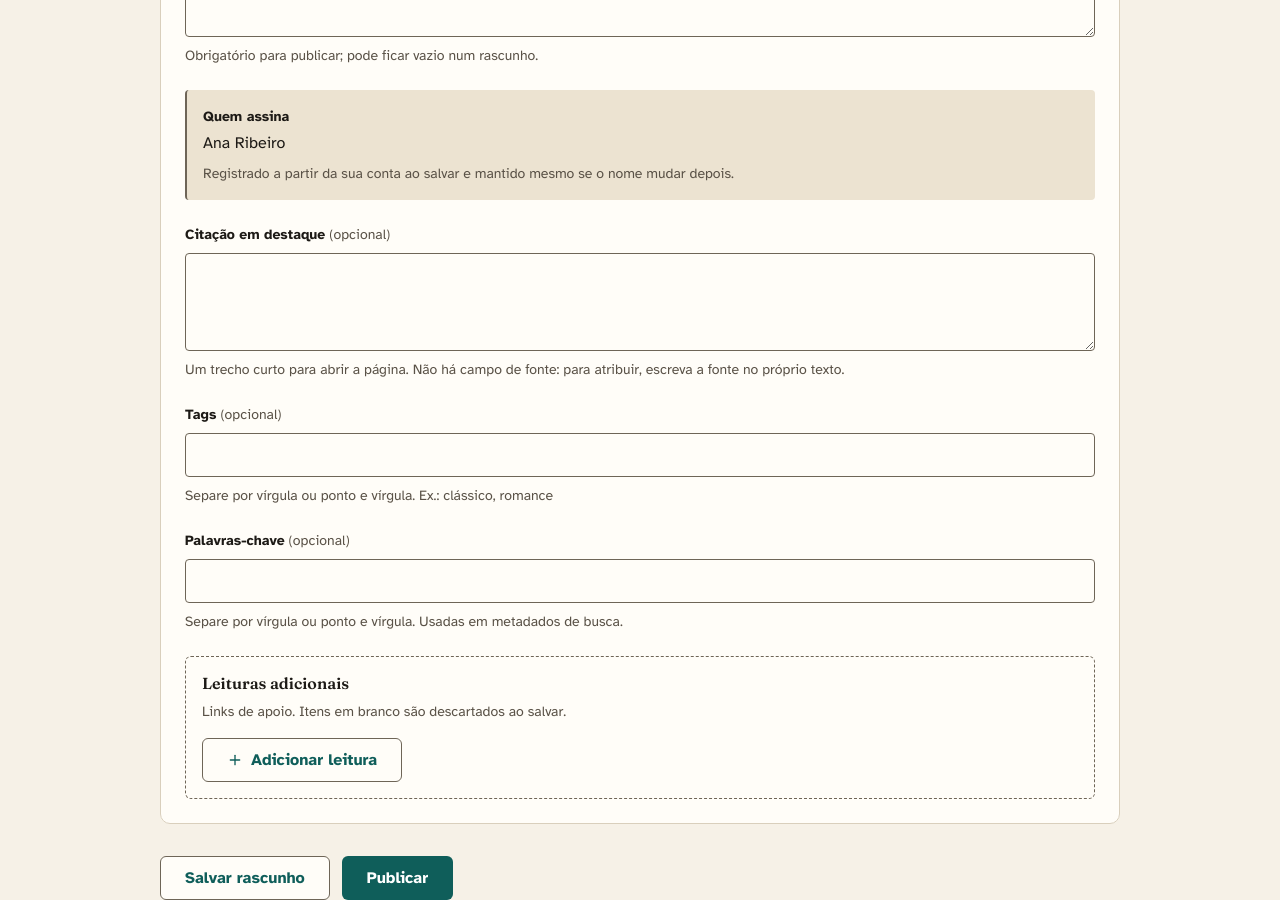
Test case: leituras adicionais: adicionar, remover e o foco em cada transição › adicionar cria o par de campos e leva o foco ao primeiro deles
(page scrolled)
Click the button "Adicionar leitura": (302, 760) [202, 738, 402, 782]
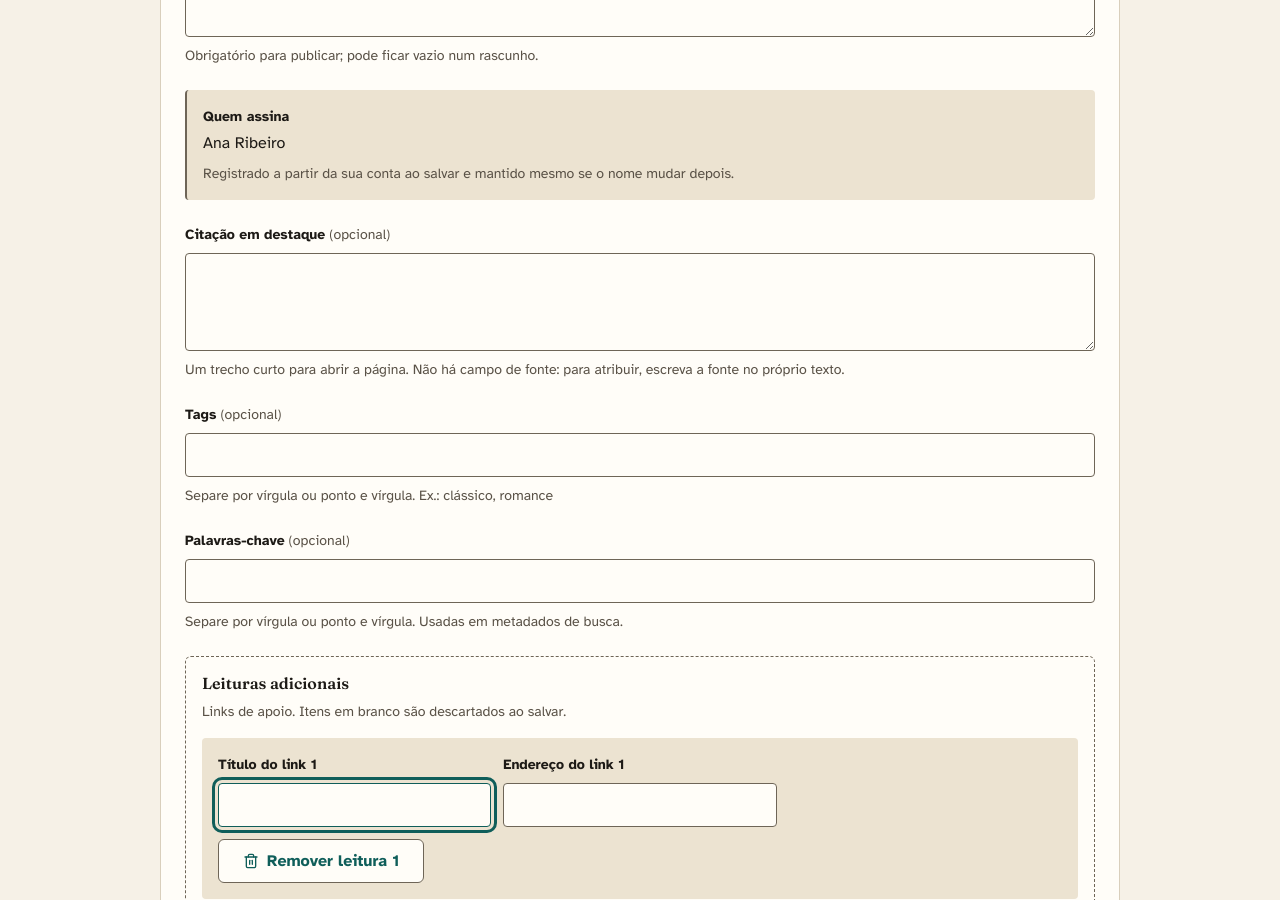
expect the field labelled "Título do link 1" is shown: met, box [218, 783, 491, 827]
expect the field labelled "Endereço do link 1" is shown: met, box [503, 783, 777, 827]
